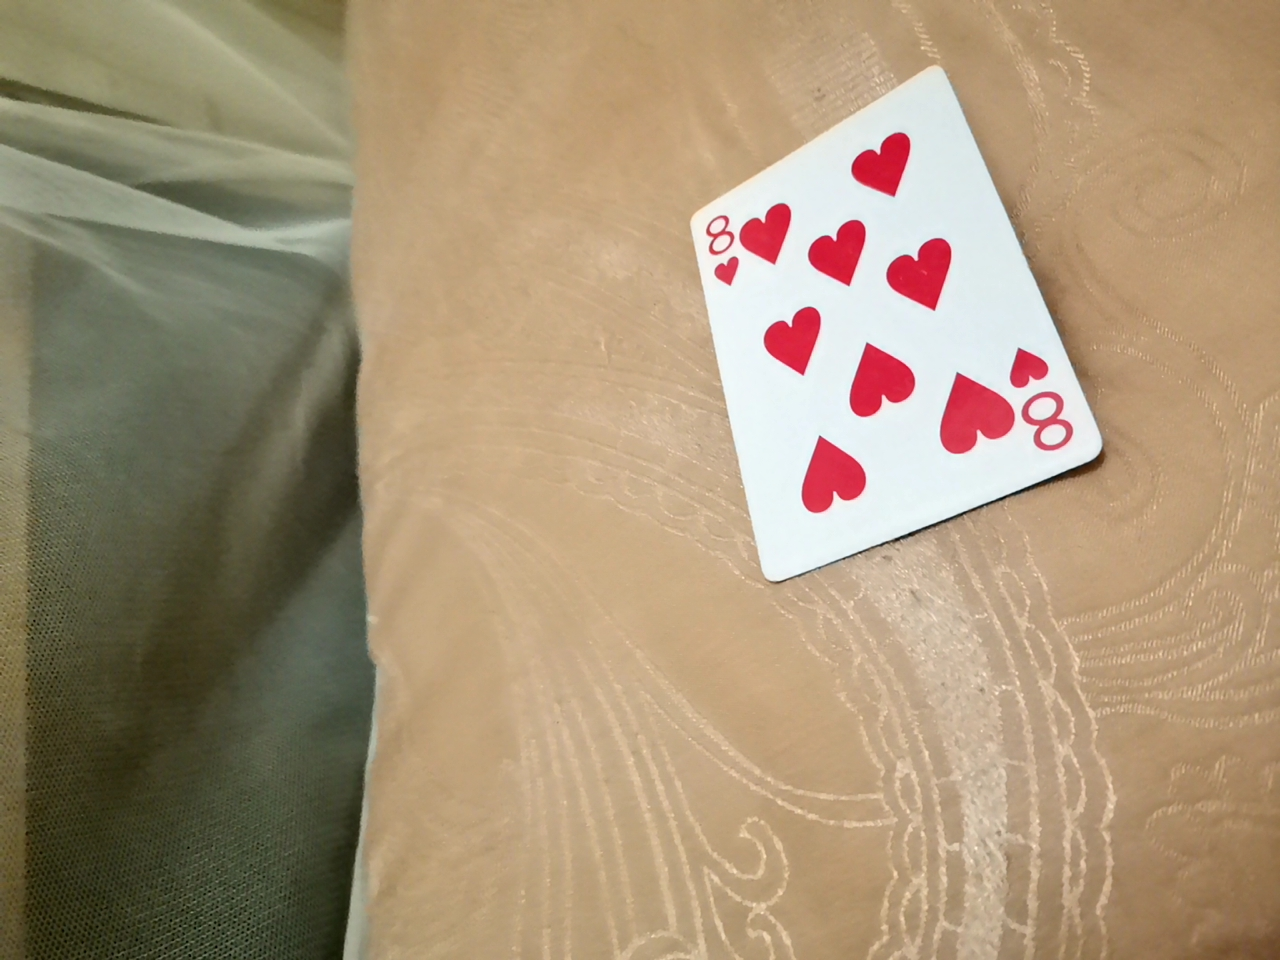hx 8: (670, 45, 1092, 594)
